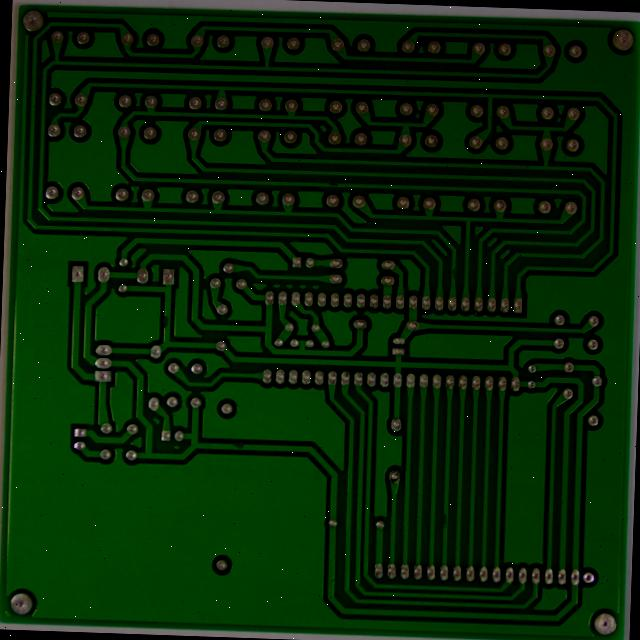mouse_bite: (474, 498, 490, 521), (172, 285, 188, 305), (246, 423, 266, 438), (484, 232, 499, 250), (353, 140, 368, 154)
